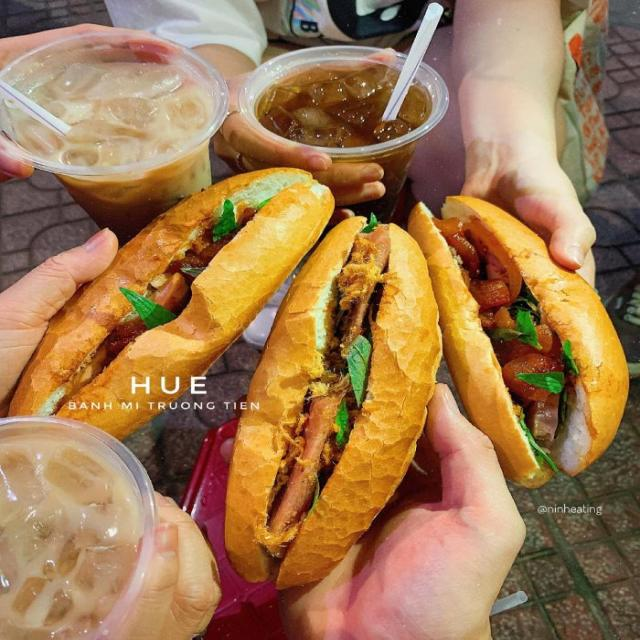banh mi: (11, 168, 333, 439), (226, 218, 441, 588), (408, 196, 628, 486)
